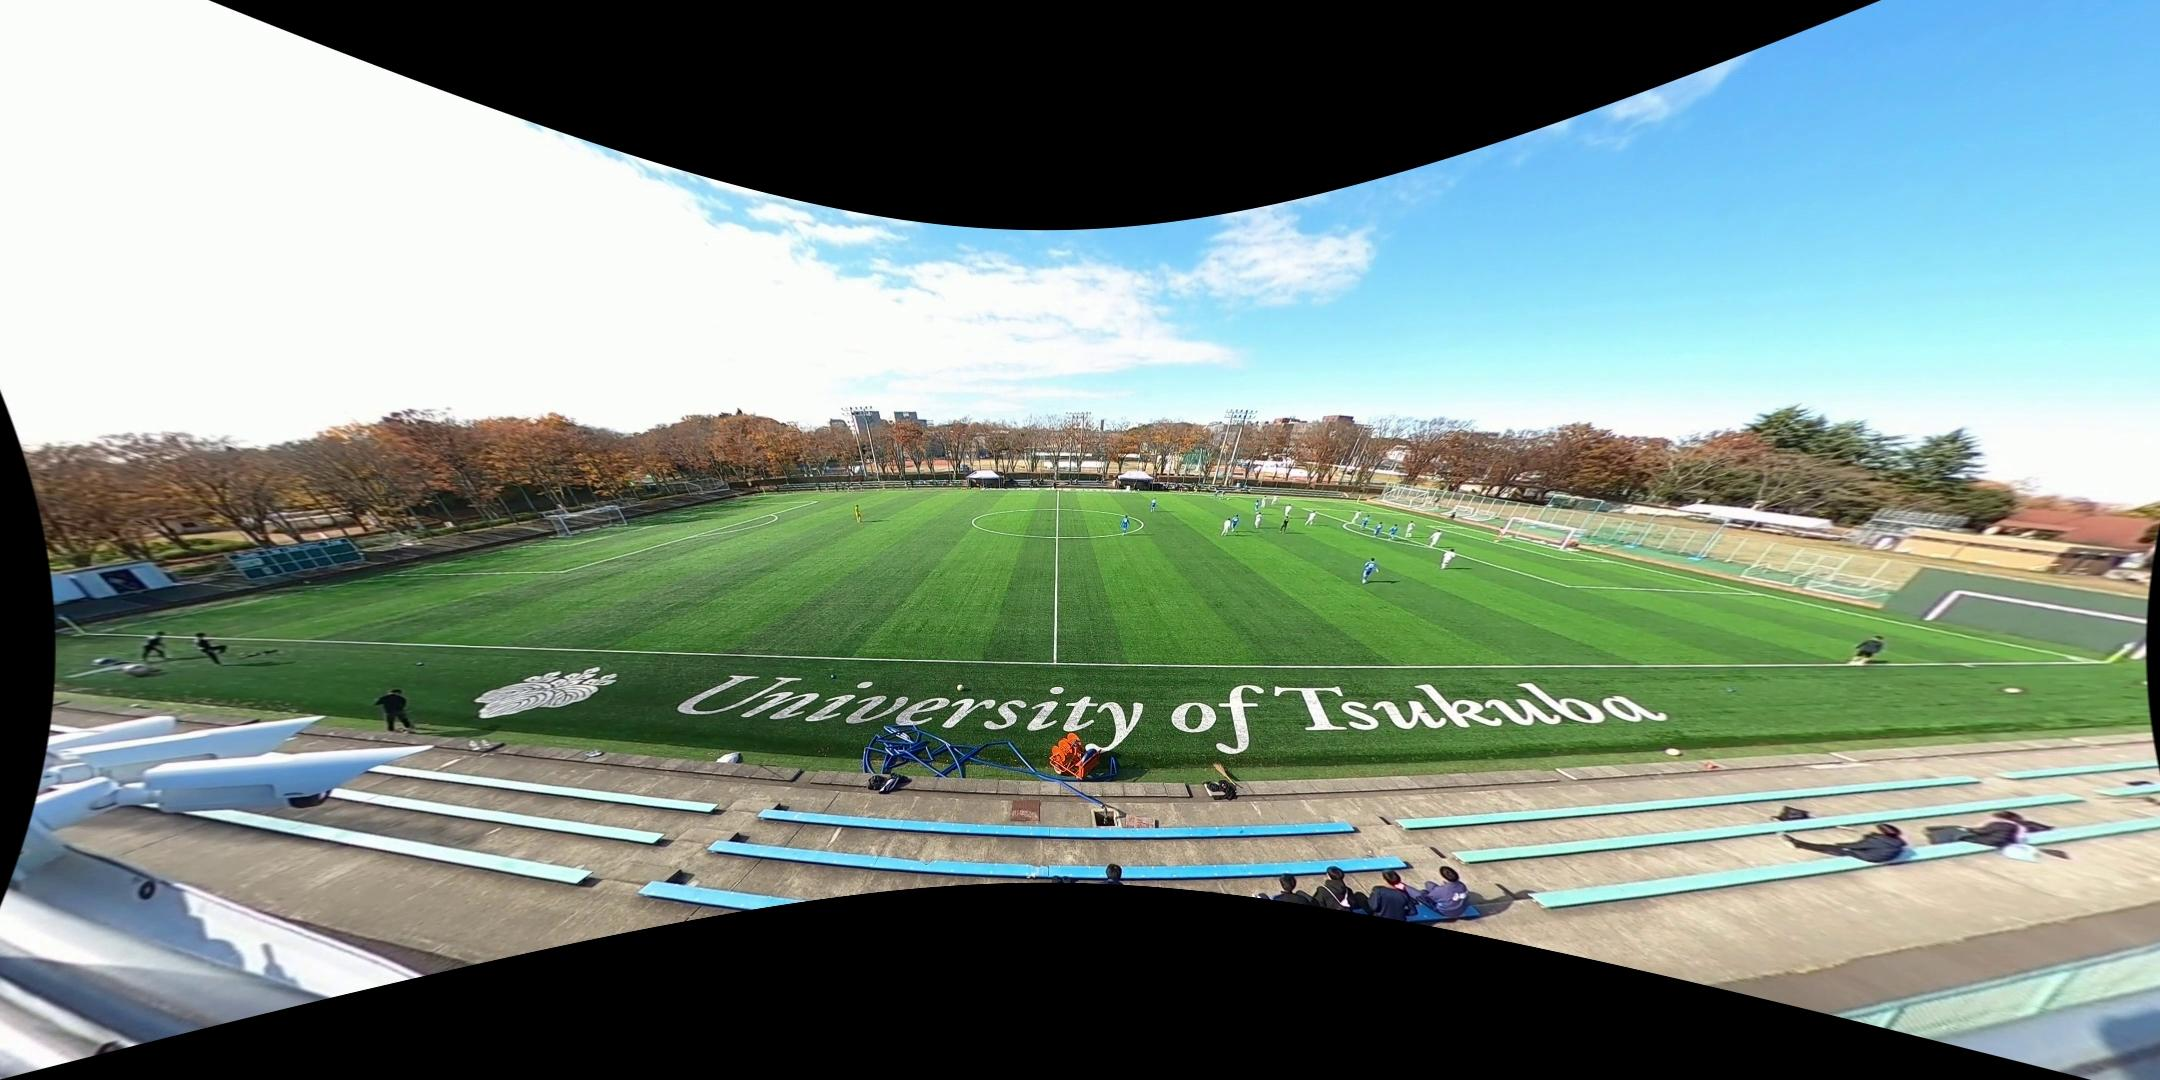person: (1845, 633, 1885, 668), (1360, 558, 1379, 584), (1439, 547, 1457, 569), (1428, 530, 1443, 548), (1119, 515, 1131, 536), (1491, 526, 1504, 544), (1304, 510, 1318, 526), (1386, 523, 1398, 541), (853, 503, 863, 524), (1357, 515, 1370, 531), (1279, 516, 1290, 534), (1404, 520, 1415, 538), (1371, 522, 1384, 537), (1221, 518, 1231, 537), (1350, 510, 1361, 525), (1231, 515, 1240, 533), (1253, 512, 1262, 530), (1283, 503, 1293, 519), (1149, 497, 1157, 514), (1269, 494, 1279, 507), (1259, 496, 1267, 510), (1209, 489, 1219, 500), (1253, 500, 1259, 513), (1220, 490, 1226, 500), (1226, 497, 1230, 501)
sports ball: (956, 683, 963, 692)
